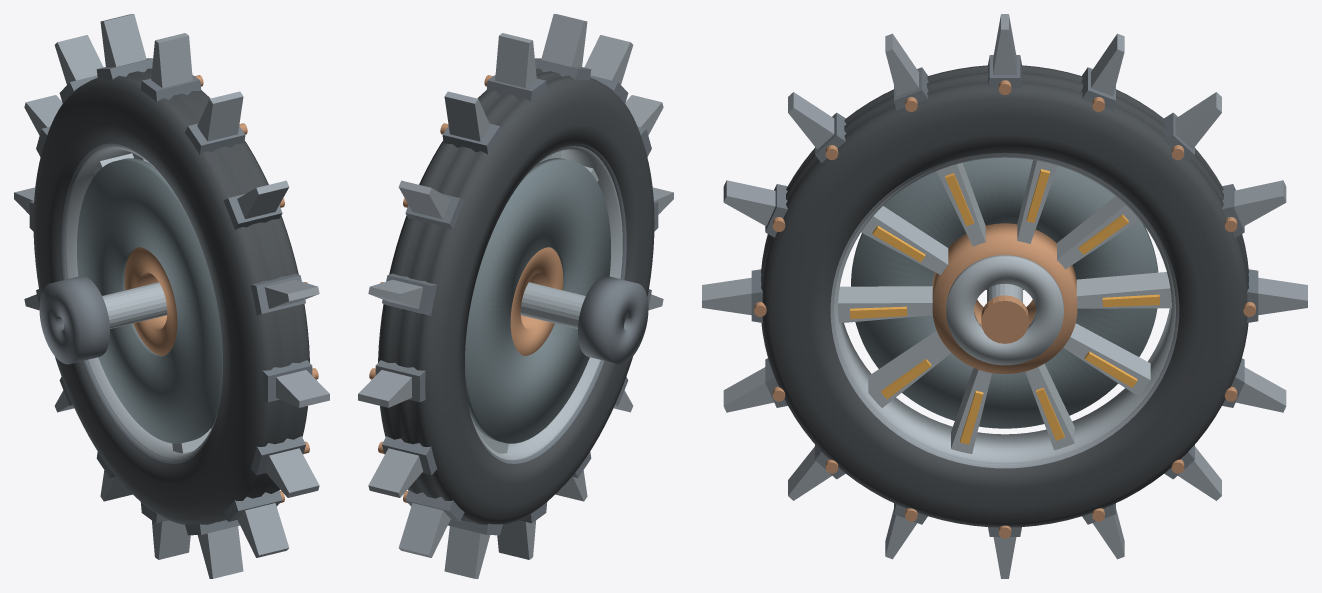
File: M02-006_animated.glb
3 views of the same model, side by side, from view 1: azimuth 30°, elevation 25°; view 2: azimuth 150°, elevation 25°; view 3: azimuth 270°, elevation 25° (orthographic). The views are drawn at different scales.
Parts seen in each view (by area): view 1: M02-006_01_Rubble_Tire, M02-006_07_Brake_Disc, M02-006_Mount_Flange_STATIC, M02-006_02_Reinforced_Rim, M02-006_05_Hollow_Hub, M02-006_Axle_Shaft_STATIC, M02-006_Replaceable_Spike_10, M02-006_Replaceable_Spike_04, M02-006_Replaceable_Spike_03, M02-006_Replaceable_Spike_09, M02-006_Replaceable_Spike_11, M02-006_Replaceable_Spike_05 (+17 smaller); view 2: M02-006_01_Rubble_Tire, M02-006_07_Brake_Disc, M02-006_Mount_Flange_STATIC, M02-006_02_Reinforced_Rim, M02-006_05_Hollow_Hub, M02-006_Axle_Shaft_STATIC, M02-006_Replaceable_Spike_14, M02-006_Replaceable_Spike_04, M02-006_Replaceable_Spike_05, M02-006_Replaceable_Spike_15, M02-006_Replaceable_Spike_13, M02-006_Replaceable_Spike_03 (+17 smaller); view 3: M02-006_01_Rubble_Tire, M02-006_07_Brake_Disc, M02-006_02_Reinforced_Rim, M02-006_06_Hub_Front_Collar, M02-006_05_Hollow_Hub, M02-006_04_Front_Bead_Lock, M02-006_Spoke_05, M02-006_Spoke_00, M02-006_Spoke_09, M02-006_Spoke_06, M02-006_Spoke_04, M02-006_Spoke_01 (+20 smaller).
Boxes of the visible parts, <box> form: M02-006_01_Rubble_Tire: <box>33,68,309,524</box>; M02-006_07_Brake_Disc: <box>77,158,222,443</box>; M02-006_Mount_Flange_STATIC: <box>39,276,109,364</box>; M02-006_02_Reinforced_Rim: <box>65,146,217,460</box>; M02-006_05_Hollow_Hub: <box>124,247,177,355</box>; M02-006_Axle_Shaft_STATIC: <box>102,282,167,328</box>; M02-006_Replaceable_Spike_10: <box>237,503,289,557</box>; M02-006_Replaceable_Spike_04: <box>151,33,192,88</box>; M02-006_Replaceable_Spike_03: <box>100,14,146,67</box>; M02-006_Replaceable_Spike_09: <box>264,448,319,497</box>; M02-006_Replaceable_Spike_11: <box>197,526,243,578</box>; M02-006_Replaceable_Spike_05: <box>197,91,243,141</box>; M02-006_01_Rubble_Tire: <box>378,68,654,524</box>; M02-006_07_Brake_Disc: <box>465,158,610,443</box>; M02-006_Mount_Flange_STATIC: <box>578,276,648,364</box>; M02-006_02_Reinforced_Rim: <box>470,146,622,460</box>; M02-006_05_Hollow_Hub: <box>510,247,563,355</box>; M02-006_Axle_Shaft_STATIC: <box>520,282,585,328</box>; M02-006_Replaceable_Spike_14: <box>398,503,450,557</box>; M02-006_Replaceable_Spike_04: <box>495,33,536,88</box>; M02-006_Replaceable_Spike_05: <box>541,14,587,67</box>; M02-006_Replaceable_Spike_15: <box>368,448,423,497</box>; M02-006_Replaceable_Spike_13: <box>444,526,490,578</box>; M02-006_Replaceable_Spike_03: <box>444,91,490,141</box>; M02-006_01_Rubble_Tire: <box>761,65,1248,527</box>; M02-006_07_Brake_Disc: <box>851,157,1158,428</box>; M02-006_02_Reinforced_Rim: <box>834,155,1175,464</box>; M02-006_06_Hub_Front_Collar: <box>946,255,1063,365</box>; M02-006_05_Hollow_Hub: <box>932,223,1077,373</box>; M02-006_04_Front_Bead_Lock: <box>830,152,1179,468</box>; M02-006_Spoke_05: <box>838,286,932,323</box>; M02-006_Spoke_00: <box>1076,272,1171,308</box>; M02-006_Spoke_09: <box>1063,323,1150,396</box>; M02-006_Spoke_06: <box>868,330,951,407</box>; M02-006_Spoke_04: <box>861,206,948,274</box>; M02-006_Spoke_01: <box>1057,196,1139,269</box>.
Bounding box in the file's own units: 0.35 × 1.07 × 1.07.
